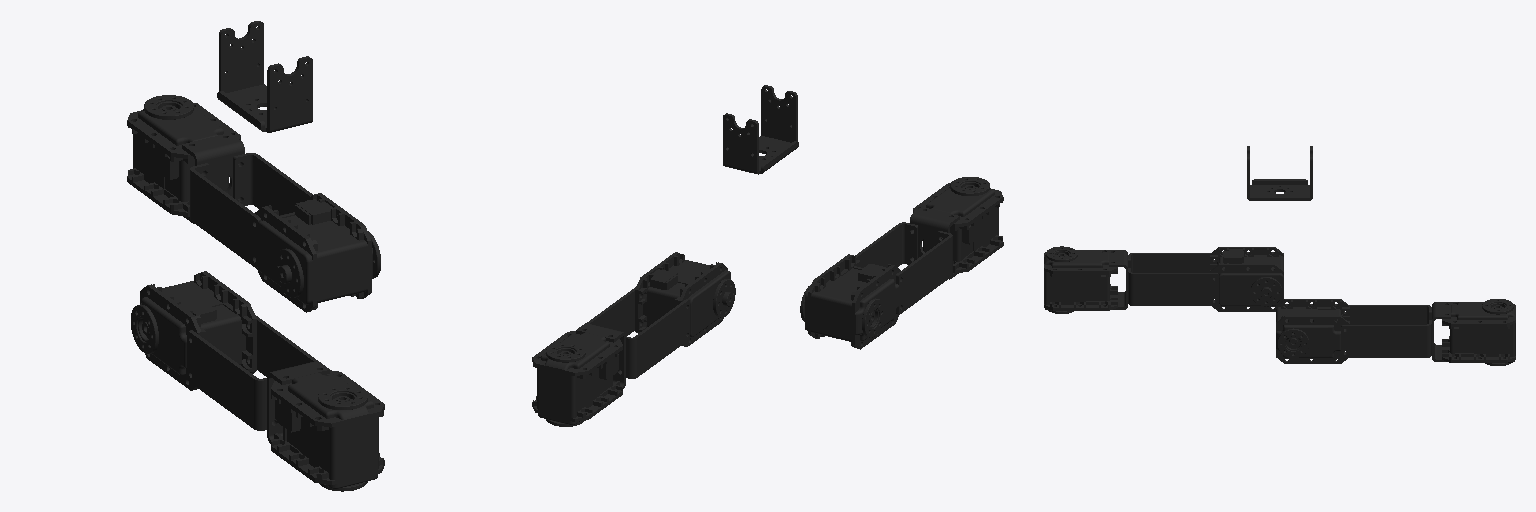
--- Render facts (derived) ---
3 views of the same robot in one strip: view 1: azimuth 30°, elevation 25°; view 2: azimuth 150°, elevation 25°; view 3: azimuth 270°, elevation 25° (orthographic).
Model Minibot with 26 links and 25 joints (20 revolute, 5 fixed), rooted at base_link, posed all joints at 0.
Visible links, largest first — view 1: MP_ARM_HIGH_R, MP_ARM_HIGH_L, MP_NECK; view 2: MP_ARM_HIGH_L, MP_ARM_HIGH_R, MP_NECK; view 3: MP_ARM_HIGH_L, MP_ARM_HIGH_R, MP_NECK.
Link boxes in pixels (x1,y1,x2,y2): MP_ARM_HIGH_R: [131, 271, 384, 491]; MP_ARM_HIGH_L: [127, 95, 380, 312]; MP_NECK: [217, 21, 312, 132]; MP_ARM_HIGH_L: [532, 252, 735, 426]; MP_ARM_HIGH_R: [800, 177, 1003, 349]; MP_NECK: [723, 85, 798, 174]; MP_ARM_HIGH_L: [1276, 299, 1515, 365]; MP_ARM_HIGH_R: [1044, 246, 1283, 313]; MP_NECK: [1247, 146, 1312, 200].
Size in the robot's own frame: 126 by 324 by 144 metres.
12 mesh visuals loaded from 12 distinct referenced files (7 binary STL); not drawn: 9 (reference not matched to a file when rendering).

The robot description file, URDF, robot "Minibot":
<?xml version="1.0" ?>
<robot name="Minibot">


<link name="base_link"/>
  
  <joint name="base_link_to_body" type="fixed">
    <parent link="base_link"/>
    <child link="MP_BODY"/>
    <origin xyz="0 0 0.6" rpy="0 0 0" />
  </joint>


  <link name="MP_BODY">
    <inertial>
      <origin xyz="-0.003053 -0.038651 -0.019268" />
      <mass value="0.97559947"/>
      <inertia ixx="3.1081800"  ixy="-0.25460189"  ixz="2.0318174" iyy="6.3787776" iyz="0.16417863" izz="5.3316425" />
    </inertial>
    <visual>
      <origin xyz="0 0 0" rpy="1.5707963268 0 1.5707963268"/>
      <geometry>
        <mesh filename="package://minibot_description/meshes/torso_high.stl"  scale="1 1 1"/>
      </geometry>
      <material name="Grey">
        <color rgba="0.20 0.20 0.20 1.0"/>
      </material>
    </visual>
    <collision>
      <origin xyz="0 0 0" rpy="1.5707963268 0 1.5707963268"/>
      <geometry>
        <mesh filename="package://minibot_description/meshes/torso_low.stl"  scale="1 1 1"/>
      </geometry>
    </collision>
  </link>

  <link name="MP_NECK">
    <inertial>
      <origin xyz="0.001424 -0.016567 -0.007128" />
      <mass value="0.024357719"/>
     <inertia ixx="0.0051411124"  ixy="-0.00057530255"  ixz="-0.000024729049" iyy="0.0081915737" iyz="-0.000019223094" izz="0.0011379812" />
    </inertial>
    <visual>
      <origin xyz="0 0 0" rpy="1.5707963268 0 0" />
      <geometry>
        <mesh filename="package://minibot_description/meshes/head_lower_high.stl"  scale="1 1 1"/>
      </geometry>
      <material name="Grey">
        <color rgba="0.20 0.20 0.20 1.0"/>
      </material>
    </visual>
    <collision>
      <origin xyz="0 0 0" rpy="1.5707963268 0 0" />
      <geometry>
        <mesh filename="package://minibot_description/meshes/head_lower_low.stl"  scale="1 1 1"/>
      </geometry>
    </collision>
  </link>

  <link name="MP_HEAD">
    <inertial>
      <origin xyz="0.000064 -0.018565 -0.007667" />
      <mass value="0.15804192"/>
     <inertia ixx="0.1239683"  ixy="0.000078494368"  ixz="0.000007645979" iyy="0.11783781" iyz="0.0012199205" izz="0.1583601" />
    </inertial>
    <visual>
      <origin xyz="0 0 0" rpy="3.14 1.5707963268 0" />
      <geometry>
        <mesh filename="package://minibot_description/meshes/head_upper_high.stl"  scale="1 1 1"/>
      </geometry>
      <material name="Grey">
        <color rgba="0.20 0.20 0.20 1.0"/>
      </material>
    </visual>
    <collision>
      <origin xyz="0 0 0" rpy="3.14 1.5707963268 0" />
      <geometry>
        <mesh filename="package://minibot_description/meshes/head_upper_low.stl"  scale="1 1 1"/>
      </geometry>
    </collision>
  </link>

  <link name="MP_BACK_L">
    <inertial>
      <origin xyz="-0.0031158909 0.020443695 -0.019663084" />
      <mass value="0.010"/>
      <inertia ixx="3.1081800"  ixy="-0.25460189"  ixz="2.0318174" iyy="6.3787776" iyz="0.16417863" izz="5.3316425" />
    </inertial>
    <visual>
      <origin xyz="0.0 0.0 0.0" rpy="0 0 0" />
      <geometry>
        <box size="0.001 0.001 0.001"  scale="1 1 1"/>
      </geometry>
      <material name="Grey">
        <color rgba="0.20 0.20 0.20 1.0"/>
      </material>
    </visual>
    <collision>
      <origin xyz="0.0 0.0 0.0" rpy="0 0 0" />
      <geometry>
        <box size="0.001 0.001 0.001"  scale="1 1 1"/>
      </geometry>
    </collision>

  </link>

  <link name="MP_SHOULDER_L">
    <inertial>
      <origin xyz="-0.013522619 0.010264050 0.0013935747" />
      <mass value="0.025913024"/>
      <inertia ixx="0.0097758165"  ixy="0.0016911839"  ixz="-0.00045174329" iyx="0.0016911839" iyy="0.010511104" iyz="0.00033406955" izx="-0.00045174329" izy="0.00033406955" izz="0.005476798" />
    </inertial>
    
    <visual>
      <origin xyz="0 0 0" rpy="0 1.5707963268 1.5707963268"/>
      <geometry>
        <!--box size="0.016 0.033 0.02165" /-->
        <mesh filename="package://minibot_description/meshes/shoulder_con_high.stl"  scale="1 1 1"/>
      </geometry>
      <material name="Grey">
        <color rgba="0.20 0.20 0.20 1.0"/>
      </material>
    </visual>
    <collision>
      <origin xyz="0 0 0" rpy="0 1.5707963268 1.5707963268"/>
      <geometry>
        <mesh filename="package://minibot_description/meshes/shoulder_con_low.stl"  scale="1 1 1"/>
      </geometry>
    </collision>
  </link>

  <link name="MP_ARM_HIGH_L" >
    <inertial>
      <origin xyz="-0.036239 0.000734 0.000660"/>
      <mass value="0.16837715"/>
      <inertia ixx="0.12202839"  ixy="-0.0020812626"  ixz="-0.00088143449" iyx="-0.0020812626" iyy="0.038088441" iyz="0.0018251448" izx="-0.00088143449" izy="0.0018251448" izz="0.11340830" />
    </inertial>
    <visual>
      <origin xyz="0 0 0" rpy="0 0 -1.5707963268" />
      <geometry>
        <!--box size="0.06 0.032 0.035" /-->
        <mesh filename="package://minibot_description/meshes/upper_arm_high.stl"  scale="1 1 1"/>
      </geometry>
      <material name="Grey">
        <color rgba="0.20 0.20 0.20 1.0"/>
      </material>
    </visual>
    <collision>
      <origin xyz="0 0 0" rpy="0 0 -1.5707963268" />
      <geometry>
        <mesh filename="package://minibot_description/meshes/upper_arm_high.stl"  scale="1 1 1"/>
      </geometry>
    </collision>
  </link>

  <link name="MP_ARM_LOW_L" >
    <inertial>
      <origin xyz="0.000000 0.000000 0.000000"/>
      <mass value="0.059288504"/>
      <inertia ixx="0.086855267"  ixy="0.0053020311"  ixz="0.00043636051" iyx="0.0053020311" iyy="0.021192085" iyz="-0.0064855932" izx="0.00043636051" izy="-0.0064855932" izz="0.086845450" />
    </inertial>

    <visual>
      <origin xyz="0 0 0" rpy="0 1.5707963268 1.5707963268" />
      <geometry>
        <mesh filename="package://minibot_description/meshes/lower_arm_high.stl"  scale="1 1 1"/>
      </geometry>
      <material name="Grey">
        <color rgba="0.20 0.20 0.20 1.0"/>
      </material>
    </visual>
    <collision>
      <origin xyz="0 0 0" rpy="0 1.5707963268 1.5707963268" />
      <geometry>
        <mesh filename="package://minibot_description/meshes/lower_arm_low.stl"  scale="1 1 1"/>
      </geometry>
    </collision>
  </link>


  <link name="MP_BACK_R">
    <inertial>
      <origin xyz="0 0 0" />
      <mass value="0.010"/>
      <inertia ixx="3.1081800"  ixy="-0.25460189"  ixz="2.0318174" iyy="6.3787776" iyz="0.16417863" izz="5.3316425" />
    </inertial>
    
    <visual>
      <origin xyz="0.0 0.0 0.0" rpy="0 0 0" />
      <geometry>
        <box size="0.001 0.001 0.001" />
      </geometry>
      <material name="Grey">
        <color rgba="0.20 0.20 0.20 1.0"/>
      </material>
    </visual>
    <collision>
      <origin xyz="0.0 0.0 0.0" rpy="0 0 0" />
      <geometry>
        <box size="0.001 0.001 0.001" />
      </geometry>
    </collision>
    
  </link>

  <link name="MP_SHOULDER_R" >
    <inertial>
      <origin xyz="-0.013523 0.010264 0.001394" />
      <mass value="0.025913024"/>
      <inertia ixx="0.0097758165"  ixy="0.0016911839"  ixz="-0.00045174329" iyx="0.0016911839" iyy="0.010511104" iyz="0.00033406955" izx="-0.00045174329" izy="0.00033406955" izz="0.005476798" />
    </inertial>
    <visual>
      <origin xyz="0 0 0" rpy="0 1.5707963268 1.5707963268"/>
      <geometry>
        <!--box size="0.016 0.033 0.02165" /-->
        <mesh filename="package://minibot_description/meshes/shoulder_con_high.stl"  scale="1 1 1"/>
      </geometry>
      <material name="Grey">
        <color rgba="0.20 0.20 0.20 1.0"/>
      </material>
    </visual>
    <collision>
      <origin xyz="0 0 0" rpy="0 1.5707963268 1.5707963268"/>
      <geometry>
        <mesh filename="package://minibot_description/meshes/shoulder_con_low.stl"  scale="1 1 1"/>
      </geometry>
    </collision>
  </link>

  <link name="MP_ARM_HIGH_R" >
    <inertial>
      <origin xyz="-0.036239 0.000734 -0.000660" />
      <mass value="0.16837715"/>
      <inertia ixx="0.12202839"  ixy="-0.0020812626"  ixz="-0.00088143449" iyx="-0.0020812626" iyy="0.038088441" iyz="0.0018251448" izx="-0.00088143449" izy="0.0018251448" izz="0.11340830" />
    </inertial>
    <visual>
      <origin xyz="0 0 0" rpy="0 0 -1.5707963268" />
      <geometry>
        <!--box size="0.06 0.032 0.035"/-->
        <mesh filename="package://minibot_description/meshes/upper_arm_high.stl"  scale="1 1 1"/>
      </geometry>
      <material name="Grey">
        <color rgba="0.20 0.20 0.20 1.0"/>
      </material>
    </visual>
    <collision>
      <origin xyz="0 0 0" rpy="0 0 -1.5707963268" />
      <geometry>
        <mesh filename="package://minibot_description/meshes/upper_arm_high.stl"  scale="1 1 1"/>
      </geometry>
    </collision>
  </link>

  <link name="MP_ARM_LOW_R" >
    <inertial>
      <origin xyz="0.000000 0.000000 0.000000" />
      <mass value="0.059288504"/>
      <inertia ixx="0.086855267"  ixy="0.0053020311"  ixz="0.00043636051" iyx="0.0053020311" iyy="0.021192085" iyz="-0.0064855932" izx="0.00043636051" izy="-0.0064855932" izz="0.086845450" />
    </inertial>

    <visual>
      <origin xyz="0 0 0" rpy="0 1.5707963268 1.5707963268" />
      <geometry>
        <mesh filename="package://minibot_description/meshes/lower_arm_high.stl"  scale="1 1 1"/>
      </geometry>
      <material name="Grey">
        <color rgba="0.20 0.20 0.20 1.0"/>
      </material>
    </visual>
    <collision>
      <origin xyz="0 0 0" rpy="0 1.5707963268 1.5707963268" />
      <geometry>
        <mesh filename="package://minibot_description/meshes/lower_arm_low.stl"  scale="1 1 1"/>
      </geometry>
    </collision>
  </link>


  <link name="MP_PELVIS_L" >
    <inertial>
      <origin xyz="0.000000 0.000480 0.018437" />
      <mass value="0.167"/>
      <inertia ixx="0.12259691"  ixy="0.00071127469"  ixz="0.00081143913" iyx="0.00071127469" iyy="0.11066637" iyz="-0.0071635476" izx="0.00081143913" izy="-0.0071635476" izz="0.041877668" />
    </inertial>
    <visual>
      <origin xyz="0 0 0" rpy="1.5707963268 0 1.5707963268" />
      <geometry>
        <!--box size="0.045 0.08175 0.028652" /-->
        <mesh filename="package://minibot_description/meshes/yaw_con_high.stl"  scale="1 1 1"/>
      </geometry>
      <material name="Grey">
        <color rgba="0.20 0.20 0.20 1.0"/>
      </material>
    </visual>
    <collision>
      <origin xyz="0 0 0" rpy="1.5707963268 0 1.5707963268" />
      <geometry>
        <mesh filename="package://minibot_description/meshes/yaw_con_low.stl"  scale="1 1 1"/>
      </geometry>
    </collision>
  </link>

  <link name="MP_THIGH1_L" >
    <inertial>
      <origin xyz="0.000079 0.018242 0.013873" />
      <mass value="0.11904336"/>
      <inertia ixx="0.097950272"  ixy="0.0012119368"  ixz="-0.00021223016" iyx="0.00122119368" iyy="0.032848287" iyz="-0.0019474021" izx="-0.00021223016" izy="-0.0019474021" izz="0.11493509" />
    </inertial>
    <visual>
      <origin xyz="0 0 0" rpy="0 3.14 3.14" />
      <geometry>
        <!--box size="0.001 0.001 0.001"/-->
        <mesh filename="package://minibot_description/meshes/hip_roll_high.stl"  scale="1 1 1"/>
      </geometry>
      <material name="Grey">
        <color rgba="0.20 0.20 0.20 1.0"/>
      </material>
    </visual>
    <collision>
      <origin xyz="0 0 0" rpy="0 3.14 3.14" />
      <geometry>
        <mesh filename="package://minibot_description/meshes/hip_roll_low.stl"  scale="1 1 1"/>
      </geometry>
    </collision>
  </link>

  <link name="MP_THIGH2_L" >
    <inertial>
      <origin xyz="-0.062965 -0.000323 0.000692" />
      <mass value="0.11904336"/>
      <inertia ixx="0.097950272"  ixy="0.0012119368"  ixz="-0.00021223016" iyx="0.00122119368" iyy="0.032848287" iyz="-0.0019474021" izx="-0.00021223016" izy="-0.0019474021" izz="0.11493509" />
    </inertial>
    <visual>
      <origin xyz="0 0 0" rpy="1.5707963268 1.5707963268 0" />
      <geometry>
        <!--box size="0.093 0.035 0.045"-->
        <mesh filename="package://minibot_description/meshes/upper_leg_high.stl"  scale="1 1 1"/>
      </geometry>
      <material name="Grey">
        <color rgba="0.20 0.20 0.20 1.0"/>
      </material>
    </visual>
    <collision>
      <origin xyz="0 0 0" rpy="1.5707963268 1.5707963268 0" />
      <geometry>
        <mesh filename="package://minibot_description/meshes/upper_leg_high.stl"  scale="1 1 1"/>
      </geometry>
    </collision>
  </link>

  <link name="MP_TIBIA_L" >
    <inertial>
      <origin xyz="-0.053955 0.006548 -0.000592" />
      <mass value="0.070309794"/>
      <inertia ixx="0.093369608"  ixy="-0.00093567395"  ixz="-0.00023992085" iyx="-0.00093567395" iyy="0.046295534" iyz="-0.012858493" izx="-0.00023992085" izy="-0.012858493" izz="0.11351516" />
    </inertial>
    <visual>
      <origin xyz="0 0 0" rpy="1.5707963268 1.5707963268 0" />
      <geometry>
        <!--box size="0.093 0.035 0.045"/-->
        <mesh filename="package://minibot_description/meshes/lower_leg_high.stl"  scale="1 1 1"/>
      </geometry>
      <material name="Grey">
        <color rgba="0.20 0.20 0.20 1.0"/>
      </material>
    </visual>
    <collision>
      <origin xyz="0 0 0" rpy="1.5707963268 1.5707963268 0" />
      <geometry>
        <mesh filename="package://minibot_description/meshes/lower_leg_low.stl"  scale="1 1 1"/>
      </geometry>
    </collision>
  </link>

  <link name="MP_ANKLE1_L" >
    <inertial>
      <origin xyz="-0.000214 -0.018536 0.013873" />
      <mass value="0.16710792"/>
      <inertia ixx="0.12079175"  ixy="-0.00079781067"  ixz="-0.00039322246" iyx="-0.00079781067" iyy="0.10885465" iyz="0.0070770117" izx="-0.00039322246" izy="0.0070770117" izz="0.041871103" />
    </inertial>
    <visual>
      <origin xyz="0 0 0" rpy="3.14 -1.5707963268 1.5707963268" />
      <geometry>
        <!--box size="0.028652 0.08175 0.045"/-->
        <mesh filename="package://minibot_description/meshes/ankle_roll_high.stl"  scale="1 1 1"/>
      </geometry>
      <material name="Grey">
        <color rgba="0.20 0.20 0.20 1.0"/>
      </material>
    </visual>
    <collision>
      <origin xyz="0 0 0" rpy="3.14 -1.5707963268 1.5707963268" />
      <geometry>
        <mesh filename="package://minibot_description/meshes/ankle_roll_low.stl"  scale="1 1 1"/>
      </geometry>
    </collision>
  </link>

  <link name="MP_ANKLE2_L" >
    <inertial>
      <origin xyz="-0.025995 -0.009506 -0.000503" />
      <mass value="0.0794462"/>
      <inertia ixx="0.12079175"  ixy="-0.00079781067"  ixz="-0.00039322246" iyx="-0.00079781067" iyy="0.10885465" iyz="0.0070770117" izx="-0.00039322246" izy="0.0070770117" izz="0.041871103" />
    </inertial>
    <visual>
      <origin xyz="0 0 0" rpy="0 0 -1.5707963268" />
      <geometry>
        <!--box size="0.008 0.066 0.104"/-->
        <mesh filename="package://minibot_description/meshes/foot_high.stl"  scale="1 1 1"/>
      </geometry>
      <material name="Grey">
        <color rgba="0.20 0.20 0.20 1.0"/>
      </material>
    </visual>
    <collision>
      <origin xyz="0 0 0" rpy="0 0 -1.5707963268" />
      <geometry>
        <mesh filename="package://minibot_description/meshes/foot_low.stl"  scale="1 1 1"/>
      </geometry>
    </collision>
  </link>

  <link name="MP_PELVIS_R" >
    <inertial>
      <origin xyz="0.000000 0.000480 0.018437" />
      <mass value="0.197"/>
      <inertia ixx="0.12259691"  ixy="0.00071127469"  ixz="0.00081143913" iyx="0.00071127469" iyy="0.11066637" iyz="-0.0071635476" izx="0.00081143913" izy="-0.0071635476" izz="0.041877668" />
    </inertial>
    <visual>
      <origin xyz="0 0 0" rpy="1.5707963268 0 1.5707963268" />
      <geometry>
        <!--box size="0.045 0.08175 0.028652" /-->
        <mesh filename="package://minibot_description/meshes/yaw_con_high.stl"  scale="1 1 1"/>
      </geometry>
      <material name="Grey">
        <color rgba="0.20 0.20 0.20 1.0"/>
      </material>
    </visual>
    <collision>
      <origin xyz="0 0 0" rpy="1.5707963268 0 1.5707963268" />
      <geometry>
        <mesh filename="package://minibot_description/meshes/yaw_con_low.stl"  scale="1 1 1"/>
      </geometry>
    </collision>
  </link>

  <link name="MP_THIGH1_R" >
    <inertial>
      <origin xyz="0.000079 -0.018242 0.0138735" />
      <mass value="0.11904336"/>
      <inertia ixx="0.097950272"  ixy="0.0012119368"  ixz="-0.00021223016" iyx="0.00122119368" iyy="0.032848287" iyz="-0.0019474021" izx="-0.00021223016" izy="-0.0019474021" izz="0.11493509" />
    </inertial>
    <visual>
      <origin xyz="0 0 0" rpy="0 3.14 0" />
      <geometry>
        <!--box size="0.001 0.001 0.001"/-->
        <mesh filename="package://minibot_description/meshes/hip_roll_high.stl"  scale="1 1 1"/>
      </geometry>
      <material name="Grey">
        <color rgba="0.20 0.20 0.20 1.0"/>
      </material>
    </visual>
    <collision>
      <origin xyz="0 0 0" rpy="0 3.14 0" />
      <geometry>
        <mesh filename="package://minibot_description/meshes/hip_roll_low.stl"  scale="1 1 1"/>
      </geometry>
    </collision>

  </link>

  <link name="MP_THIGH2_R" >
    <inertial>
      <origin xyz="0.062965 -0.000323 0.000692" />
      <mass value="0.11904336"/>
      <inertia ixx="0.097950272"  ixy="0.0012119368"  ixz="-0.00021223016" iyx="0.00122119368" iyy="0.032848287" iyz="-0.0019474021" izx="-0.00021223016" izy="-0.0019474021" izz="0.11493509" />
    </inertial>
    <visual>
      <origin xyz="0 0 0" rpy="1.5707963268 -1.5707963268 0" />
      <geometry>
        <!--box size="0.093 0.035 0.045"/-->
        <mesh filename="package://minibot_description/meshes/upper_leg_high.stl"  scale="1 1 1"/>
      </geometry>
      <material name="Grey">
        <color rgba="0.20 0.20 0.20 1.0"/>
      </material>
    </visual>
    <collision>
      <origin xyz="0 0 0" rpy="1.5707963268 -1.5707963268 0" />
      <geometry>
        <mesh filename="package://minibot_description/meshes/upper_leg_high.stl"  scale="1 1 1"/>
      </geometry>
    </collision>

  </link>

  <link name="MP_TIBIA_R" >
    <inertial>
      <origin xyz="0.053955 0.006548 -0.000592" />
      <mass value="0.070309794"/>
      <inertia ixx="0.093369608"  ixy="-0.00093567395"  ixz="-0.00023992085" iyx="-0.00093567395" iyy="0.046295534" iyz="-0.012858493" izx="-0.00023992085" izy="-0.012858493" izz="0.11351516" />
    </inertial>
    <visual>
      <origin xyz="0 0 0" rpy="1.5707963268 -1.5707963268 0" />
      <geometry>
        <!--box size="0.093 0.035 0.045"/-->
        <mesh filename="package://minibot_description/meshes/lower_leg_high.stl"  scale="1 1 1"/>
      </geometry>
      <material name="Grey">
        <color rgba="0.20 0.20 0.20 1.0"/>
      </material>
    </visual>
    <collision>
      <origin xyz="0 0 0" rpy="1.5707963268 -1.5707963268 0" />
      <geometry>
        <mesh filename="package://minibot_description/meshes/lower_leg_low.stl"  scale="1 1 1"/>
      </geometry>
    </collision>

  </link>

  <link name="MP_ANKLE1_R" >
    <inertial>
      <origin xyz="-0.000214 -0.018536 -0.013873" />
      <mass value="0.16710792"/>
      <inertia ixx="0.12079175"  ixy="-0.00079781067"  ixz="-0.00039322246" iyx="-0.00079781067" iyy="0.10885465" iyz="0.0070770117" izx="-0.00039322246" izy="0.0070770117" izz="0.041871103" />
    </inertial>
    <visual>
      <origin xyz="0 0 0" rpy="0 1.5707963268 1.5707963268" />
      <geometry>
        <!--box size="0.028652 0.08175 0.045"/-->
        <mesh filename="package://minibot_description/meshes/ankle_roll_high.stl"  scale="1 1 1"/>
      </geometry>
      <material name="Grey">
        <color rgba="0.20 0.20 0.20 1.0"/>
      </material>
    </visual>
    <collision>
      <origin xyz="0 0 0" rpy="0 1.5707963268 1.5707963268" />
      <geometry>
        <mesh filename="package://minibot_description/meshes/ankle_roll_low.stl"  scale="1 1 1"/>
      </geometry>
    </collision>

  </link>

  <link name="MP_ANKLE2_R" >
    <inertial>
      <origin xyz="0.025995 -0.009506 -0.000503" />
      <mass value="0.0794462"/>
      <inertia ixx="0.12079175"  ixy="-0.00079781067"  ixz="-0.00039322246" iyx="-0.00079781067" iyy="0.10885465" iyz="0.0070770117" izx="-0.00039322246" izy="0.0070770117" izz="0.041871103" />
    </inertial>
    <visual>
      <origin xyz="0 0 0" rpy="0 0 1.5707963268" />
      <geometry>
        <!--box size="0.008 0.066 0.104"/-->
        <mesh filename="package://minibot_description/meshes/foot_high.stl"  scale="1 1 1"/>
      </geometry>
      <material name="Grey">
        <color rgba="0.20 0.20 0.20 1.0"/>
      </material>
    </visual>
    <collision>
      <origin xyz="0 0 0" rpy="0 0 1.5707963268" />
      <geometry>
        <mesh filename="package://minibot_description/meshes/foot_low.stl"  scale="1 1 1"/>
      </geometry>
    </collision>

  </link>
  
  <link name="MP_PMDCAMBOARD" >
    <!--
    <visual>
      <origin xyz="0 0 0" rpy="0 0 0" />
      <geometry>
        <box size="0.032 0.005 0.032" />
      </geometry>
      <material name="Grey">
        <color rgba="0.20 0.20 0.20 1.0"/>
      </material>
    </visual>
    -->
  </link>


  <link name="MP_IMU">
  </link>

  <joint name="j_imu" type="fixed">
  <parent link="MP_BODY"/>
  <child link="MP_IMU"/>
  <origin xyz="-0.03 0 -0.05" rpy="0 0 0" />
  <axis xyz="0 0 1" />
  </joint>


  <joint name="j_camboard" type="fixed">
  <parent link="MP_HEAD"/>
  <child link="MP_PMDCAMBOARD"/>
  <origin xyz="0 -0.055 0 " rpy="3.14159 3.14159 0" />
  <axis xyz="0 0 1" />
  </joint>

  <joint name="HeadTilt" type="revolute">
    <parent link="MP_NECK"/>
    <child link="MP_HEAD"/>
    <origin xyz="0 0 0.02715" rpy="-1.5707963 0 1.5707963" />
    <axis xyz="0 0 1" />
    <limit effort="2.8" velocity="5.6548668" lower="-2.6179939" upper="2.6179939" />
  </joint>

  <joint name="HeadPan" type="revolute">
    <parent link="MP_BODY"/>
    <child link="MP_NECK"/>
    <origin xyz="0 0 0.050593" rpy="0 0 1.5707963" />
    <axis xyz="0 0 1" />
    <limit effort="2.8" velocity="5.6548668" lower="-2.6179939" upper="2.6179939" />
  </joint>

  <joint name="j_back_l" type="fixed"> <!-- body -> shoulder pitch -->
    <parent link="MP_BODY"/>
    <child link="MP_BACK_L"/>
    <origin xyz="0 0.08134 0" rpy="-1.5707963 0 0" />
  </joint>

  <joint name="LShoulderPitch" type="revolute">
    <parent link="MP_BACK_L"/>
    <child link="MP_SHOULDER_L"/>
    <origin xyz="0 0 0" rpy="0 0 -1.5707963" />
    <axis xyz="0 0 1" />
    <limit effort="2.8" velocity="5.6548668" lower="-2.6179939" upper="2.6179939" />
  </joint>

  <joint name="LShoulderRoll" type="revolute">
    <parent link="MP_SHOULDER_L"/>
    <child link="MP_ARM_HIGH_L"/>
    <origin xyz="0 0 0.029194" rpy="1.5707963 1.5707963 0" />
    <axis xyz="0 0 1" />
    <limit effort="2.8" velocity="5.648668" lower="-2.6179939" upper="2.6179939" />
  </joint>

  <joint name="LElbow" type="revolute">
    <parent link="MP_ARM_HIGH_L"/>
    <child link="MP_ARM_LOW_L"/>
    <origin xyz="-0.14 0 0" rpy="-1.5707963 3.14159 0" />
    <axis xyz="0 0 1" />
    <limit effort="2.8" velocity="5.6548668" lower="-2.6179939" upper="2.6179939" />
  </joint>


  <joint name="j_back_r" type="fixed">
    <parent link="MP_BODY"/>
    <child link="MP_BACK_R"/>
    <origin xyz="0 -0.08134 0" rpy="1.5707963 0 0" />
  </joint>

  <joint name="RShoulderPitch" type="revolute">
    <parent link="MP_BACK_R"/>
    <child link="MP_SHOULDER_R"/>
    <origin xyz="0 0 0" rpy="0 0 -1.5707963" />
    <axis xyz="0 0 1" />
    <limit effort="2.8" velocity="5.6548668" lower="-2.6179939" upper="2.6179939" />
  </joint>

  <joint name="RShoulderRoll" type="revolute">
    <parent link="MP_SHOULDER_R"/>
    <child link="MP_ARM_HIGH_R"/>
    <origin xyz="0 0 0.029194" rpy="-1.5707963 1.5707963 0" />
    <axis xyz="0 0 1" />
    <limit effort="2.8" velocity="5.648668" lower="-2.6179939" upper="2.6179939" />
  </joint>

  <joint name="RElbow" type="revolute">
    <parent link="MP_ARM_HIGH_R"/>
    <child link="MP_ARM_LOW_R"/>
    <origin xyz="-0.14 0 0" rpy="-1.5707963 3.14159 0" />
    <axis xyz="0 0 1" />
    <limit effort="2.8" velocity="5.6548668" lower="-1.635" upper="2.6179939" />
  </joint>


  <joint name="LHipYaw" type="revolute">
    <parent link="MP_BODY"/>
    <child link="MP_PELVIS_L"/>
    <origin xyz="-0.022 0.057775 -0.160593" rpy="0 3.14159 -1.5707963" />
    <axis xyz="0 0 1" />
    <limit effort="10" velocity="5.6548668" lower="-2.6179939" upper="2.6179939" />
  </joint>

  <joint name="LHipRoll" type="revolute">
    <parent link="MP_PELVIS_L"/>
    <child link="MP_THIGH1_L"/>
    <origin xyz="0 0 0.038444" rpy="1.5707963 0 0" />
    <axis xyz="0 0 1" />
    <limit effort="10" velocity="5.6548668" lower="-2.6179939" upper="2.6179939" />
  </joint>

  <joint name="LHipPitch" type="revolute">
    <parent link="MP_THIGH1_L"/>
    <child link="MP_THIGH2_L"/>
    <origin xyz="0 0 0" rpy="1.5707963 0 -1.5707963" />
    <axis xyz="0 0 1" />
    <limit effort="10" velocity="5.6548668" lower="-2.6179939" upper="2.6179939" />
  </joint>

  <joint name="LKnee" type="revolute">
    <parent link="MP_THIGH2_L"/>
    <child link="MP_TIBIA_L"/>
    <origin xyz="-0.150 0 0" rpy="0 0 0" />
    <axis xyz="0 0 1" />
    <limit effort="10" velocity="5.6548668" lower="-2.6179939" upper="2.6179939" />
  </joint>

  <joint name="LAnklePitch" type="revolute">
    <parent link="MP_TIBIA_L"/>
    <child link="MP_ANKLE1_L"/>
    <origin xyz="-0.150 0 0" rpy="3.14159 0 0" />
    <axis xyz="0 0 1" />
    <limit effort="10" velocity="5.6548668" lower="-2.6179939" upper="2.6179939" />
  </joint>

  <joint name="LAnkleRoll" type="revolute">
    <parent link="MP_ANKLE1_L"/>
    <child link="MP_ANKLE2_L"/>
    <origin xyz="0 0 0" rpy="-1.5707963 0 0" />
    <axis xyz="0 0 1" />
    <limit effort="10" velocity="5.6548668" lower="-2.6179939" upper="2.6179939" />
  </joint>

  <joint name="RHipYaw" type="revolute">
    <parent link="MP_BODY"/>
    <child link="MP_PELVIS_R"/>
    <origin xyz="-0.022 -0.057775 -0.160593" rpy="0 3.14159 1.5707963" />
    <axis xyz="0 0 1" />
    <limit effort="10" velocity="5.6548668" lower="-2.6179939" upper="2.6179939" />
  </joint>

  <joint name="RHipRoll" type="revolute">
    <parent link="MP_PELVIS_R"/>
    <child link="MP_THIGH1_R"/>
    <origin xyz="0 0 0.038444" rpy="-1.5707963 0 0" />
    <axis xyz="0 0 1" />
    <limit effort="10" velocity="5.6548668" lower="-2.6179939" upper="2.6179939" />
  </joint>

  <joint name="RHipPitch" type="revolute">
    <parent link="MP_THIGH1_R"/>
    <child link="MP_THIGH2_R"/>
    <origin xyz="0 0 0" rpy="1.5707963 0 -1.5707963" />
    <axis xyz="0 0 1" />
    <limit effort="10" velocity="5.6548668" lower="-2.6179939" upper="2.6179939" />
  </joint>

  <joint name="RKnee" type="revolute">
    <parent link="MP_THIGH2_R"/>
    <child link="MP_TIBIA_R"/>
    <origin xyz="0.150 0 0" rpy="0 0 0" />
    <axis xyz="0 0 1" />
    <limit effort="10" velocity="5.6548668" lower="-2.6179939" upper="2.6179939" />
  </joint>

  <joint name="RAnklePitch" type="revolute">
    <parent link="MP_TIBIA_R"/>
    <child link="MP_ANKLE1_R"/>
    <origin xyz="0.150 0 0" rpy="3.14159 0 0" />
    <axis xyz="0 0 1" />
    <limit effort="10" velocity="5.6548668" lower="-2.6179939" upper="2.6179939" />
  </joint>

  <joint name="RAnkleRoll" type="revolute">
    <parent link="MP_ANKLE1_R"/>
    <child link="MP_ANKLE2_R"/>
    <origin xyz="0 0 0" rpy="-1.5707963 0 0" />
    <axis xyz="0 0 1" />
    <limit effort="10" velocity="5.6548668" lower="-2.6179939" upper="2.6179939" />
  </joint>
  
  

   <transmission name="HeadPanTransmission">
    <type>transmission_interface/SimpleTransmission</type>
    <joint name="HeadPan">
        <hardwareInterface>EffortJointInterface</hardwareInterface>
    </joint>
    <actuator name="HeadPanMotor">
      <hardwareInterface>EffortJointInterface</hardwareInterface>
      <mechanicalReduction>1</mechanicalReduction>
    </actuator>
  </transmission>
  
  
   <transmission name="HeadTiltTransmission">
    <type>transmission_interface/SimpleTransmission</type>
    <joint name="HeadTilt">
        <hardwareInterface>EffortJointInterface</hardwareInterface>
    </joint>
    <actuator name="HeadTiltMotor">
      <hardwareInterface>EffortJointInterface</hardwareInterface>
      <mechanicalReduction>1</mechanicalReduction>
    </actuator>
  </transmission>
  
  
   <transmission name="LShoulderPitchTransmission">
    <type>transmission_interface/SimpleTransmission</type>
    <joint name="LShoulderPitch">
        <hardwareInterface>EffortJointInterface</hardwareInterface>
    </joint>
    <actuator name="LShoulderPitchMotor">
      <hardwareInterface>EffortJointInterface</hardwareInterface>
      <mechanicalReduction>1</mechanicalReduction>
    </actuator>
  </transmission>
  
  
   <transmission name="LShoulderRollTransmission">
    <type>transmission_interface/SimpleTransmission</type>
    <joint name="LShoulderRoll">
        <hardwareInterface>EffortJointInterface</hardwareInterface>
    </joint>
    <actuator name="LShoulderRollTransmission">
      <hardwareInterface>EffortJointInterface</hardwareInterface>
      <mechanicalReduction>1</mechanicalReduction>
    </actuator>
  </transmission>
  
  
   <transmission name="LElbowTransmission">
    <type>transmission_interface/SimpleTransmission</type>
    <joint name="LElbow">
        <hardwareInterface>EffortJointInterface</hardwareInterface>
    </joint>
    <actuator name="LElbowMotor">
      <hardwareInterface>EffortJointInterface</hardwareInterface>
      <mechanicalReduction>1</mechanicalReduction>
    </actuator>
  </transmission>
  
  
   <transmission name="RShoulderPitchTransmission">
    <type>transmission_interface/SimpleTransmission</type>
    <joint name="RShoulderPitch">
        <hardwareInterface>EffortJointInterface</hardwareInterface>
    </joint>
    <actuator name="RShoulderPitchMotor">
      <hardwareInterface>EffortJointInterface</hardwareInterface>
      <mechanicalReduction>1</mechanicalReduction>
    </actuator>
  </transmission>
  
  
   <transmission name="RShoulderRollTransmission">
    <type>transmission_interface/SimpleTransmission</type>
    <joint name="RShoulderRoll">
        <hardwareInterface>EffortJointInterface</hardwareInterface>
    </joint>
    <actuator name="RShoulderRollMotor">
      <hardwareInterface>EffortJointInterface</hardwareInterface>
      <mechanicalReduction>1</mechanicalReduction>
    </actuator>
  </transmission>
  
  
   <transmission name="RElbowTransmission">
    <type>transmission_interface/SimpleTransmission</type>
    <joint name="RElbow">
        <hardwareInterface>EffortJointInterface</hardwareInterface>
    </joint>
    <actuator name="RElbowMotor">
      <hardwareInterface>EffortJointInterface</hardwareInterface>
      <mechanicalReduction>1</mechanicalReduction>
    </actuator>
  </transmission>
  
  
  
   <transmission name="LHipYawTransmission">
    <type>transmission_interface/SimpleTransmission</type>
    <joint name="LHipYaw">
        <hardwareInterface>EffortJointInterface</hardwareInterface>
    </joint>
    <actuator name="LHipYawMotor">
      <hardwareInterface>EffortJointInterface</hardwareInterface>
      <mechanicalReduction>1</mechanicalReduction>
    </actuator>
  </transmission>
  
  
   <transmission name="LHipRollTransmission">
    <type>transmission_interface/SimpleTransmission</type>
    <joint name="LHipRoll">
        <hardwareInterface>EffortJointInterface</hardwareInterface>
    </joint>
    <actuator name="LHipRollMotor">
      <hardwareInterface>EffortJointInterface</hardwareInterface>
      <mechanicalReduction>1</mechanicalReduction>
    </actuator>
  </transmission>
  
  
   <transmission name="LHipPitchTransmission">
    <type>transmission_interface/SimpleTransmission</type>
    <joint name="LHipPitch">
        <hardwareInterface>EffortJointInterface</hardwareInterface>
    </joint>
    <actuator name="LHipPitchMotor">
      <hardwareInterface>EffortJointInterface</hardwareInterface>
      <mechanicalReduction>1</mechanicalReduction>
    </actuator>
  </transmission>
  
  
   <transmission name="LKneeTransmission">
    <type>transmission_interface/SimpleTransmission</type>
    <joint name="LKnee">
        <hardwareInterface>EffortJointInterface</hardwareInterface>
    </joint>
    <actuator name="LKneeMotor">
      <hardwareInterface>EffortJointInterface</hardwareInterface>
      <mechanicalReduction>1</mechanicalReduction>
    </actuator>
  </transmission>
  
  
   <transmission name="LAnklePitchTransmission">
    <type>transmission_interface/SimpleTransmission</type>
    <joint name="LAnklePitch">
        <hardwareInterface>EffortJointInterface</hardwareInterface>
    </joint>
    <actuator name="LAnklePitchMotor">
      <hardwareInterface>EffortJointInterface</hardwareInterface>
      <mechanicalReduction>1</mechanicalReduction>
    </actuator>
  </transmission>
  
  
   <transmission name="LAnkleRollTransmission">
    <type>transmission_interface/SimpleTransmission</type>
    <joint name="LAnkleRoll">
        <hardwareInterface>EffortJointInterface</hardwareInterface>
    </joint>
    <actuator name="LAnkleRollMotor">
      <hardwareInterface>EffortJointInterface</hardwareInterface>
      <mechanicalReduction>1</mechanicalReduction>
    </actuator>
  </transmission>
  
  
   <transmission name="RHipYawTransmission">
    <type>transmission_interface/SimpleTransmission</type>
    <joint name="RHipYaw">
        <hardwareInterface>EffortJointInterface</hardwareInterface>
    </joint>
    <actuator name="RHipYawMotor">
      <hardwareInterface>EffortJointInterface</hardwareInterface>
      <mechanicalReduction>1</mechanicalReduction>
    </actuator>
  </transmission>
  
  
   <transmission name="RHipRollTransmission">
    <type>transmission_interface/SimpleTransmission</type>
    <joint name="RHipRoll">
        <hardwareInterface>EffortJointInterface</hardwareInterface>
    </joint>
    <actuator name="RHipRollMotor">
      <hardwareInterface>EffortJointInterface</hardwareInterface>
      <mechanicalReduction>1</mechanicalReduction>
    </actuator>
  </transmission>
  
  
   <transmission name="RHipPitchTransmission">
    <type>transmission_interface/SimpleTransmission</type>
    <joint name="RHipPitch">
        <hardwareInterface>EffortJointInterface</hardwareInterface>
    </joint>
    <actuator name="RHipPitchMotor">
      <hardwareInterface>EffortJointInterface</hardwareInterface>
      <mechanicalReduction>1</mechanicalReduction>
    </actuator>
  </transmission>
  
  
   <transmission name="RKneeTransmission">
    <type>transmission_interface/SimpleTransmission</type>
    <joint name="RKnee">
        <hardwareInterface>EffortJointInterface</hardwareInterface>
    </joint>
    <actuator name="RKneeMotor">
      <hardwareInterface>EffortJointInterface</hardwareInterface>
      <mechanicalReduction>1</mechanicalReduction>
    </actuator>
  </transmission>
  
  
   <transmission name="RAnklePitchTransmission">
    <type>transmission_interface/SimpleTransmission</type>
    <joint name="RAnklePitch">
        <hardwareInterface>EffortJointInterface</hardwareInterface>
    </joint>
    <actuator name="RAnklePitchMotor">
      <hardwareInterface>EffortJointInterface</hardwareInterface>
      <mechanicalReduction>1</mechanicalReduction>
    </actuator>
  </transmission>
  
  
   <transmission name="RAnkleRollTransmission">
    <type>transmission_interface/SimpleTransmission</type>
    <joint name="RAnkleRoll">
        <hardwareInterface>EffortJointInterface</hardwareInterface>
    </joint>
    <actuator name="RAnkleRollMotor">
      <hardwareInterface>EffortJointInterface</hardwareInterface>
      <mechanicalReduction>1</mechanicalReduction>
    </actuator>
  </transmission>



<gazebo reference="MP_BODY">
    
    
    <material>Gazebo/Grey</material>

    <mu1>9000</mu1>
    <mu2>9000</mu2>
    <kp>1000000.0</kp>
    <kd>10.0</kd>
    <minDepth>0.001</minDepth>
    <maxContacts>1</maxContacts>
    
  </gazebo>



<gazebo reference="MP_NECK">
    
    
    <material>Gazebo/Grey</material>

    <mu1>9000</mu1>
    <mu2>9000</mu2>
    <kp>1000000.0</kp>
    <kd>10.0</kd>
    <minDepth>0.001</minDepth>
    <maxContacts>1</maxContacts>
    
  </gazebo>



<gazebo reference="MP_HEAD">
    
    
    <material>Gazebo/Grey</material>

    <mu1>9000</mu1>
    <mu2>9000</mu2>
    <kp>1000000.0</kp>
    <kd>10.0</kd>
    <minDepth>0.001</minDepth>
    <maxContacts>1</maxContacts>
    
  </gazebo>



<gazebo reference="MP_BACK_L">
    
    
    <material>Gazebo/Grey</material>

    <mu1>9000</mu1>
    <mu2>9000</mu2>
    <kp>1000000.0</kp>
    <kd>10.0</kd>
    <minDepth>0.001</minDepth>
    <maxContacts>1</maxContacts>
    
  </gazebo>



<gazebo reference="MP_SHOULDER_L">
    
    
    <material>Gazebo/Grey</material>

    <mu1>9000</mu1>
    <mu2>9000</mu2>
    <kp>1000000.0</kp>
    <kd>10.0</kd>
    <minDepth>0.001</minDepth>
    <maxContacts>1</maxContacts>
    
  </gazebo>



<gazebo reference="MP_ARM_HIGH_L">
    
    
    <material>Gazebo/Grey</material>

    <mu1>9000</mu1>
    <mu2>9000</mu2>
    <kp>1000000.0</kp>
    <kd>10.0</kd>
    <minDepth>0.001</minDepth>
    <maxContacts>1</maxContacts>
    
  </gazebo>



<gazebo reference="MP_ARM_LOW_L">
    
    
    <material>Gazebo/Grey</material>

    <mu1>9000</mu1>
    <mu2>9000</mu2>
    <kp>1000000.0</kp>
    <kd>10.0</kd>
    <minDepth>0.001</minDepth>
    <maxContacts>1</maxContacts>
    
  </gazebo>





<gazebo reference="MP_BACK_R">
    
    
    <material>Gazebo/Grey</material>

    <mu1>9000</mu1>
    <mu2>9000</mu2>
    <kp>1000000.0</kp>
    <kd>10.0</kd>
    <minDepth>0.001</minDepth>
    <maxContacts>1</maxContacts>
    
  </gazebo>



<gazebo reference="MP_SHOULDER_R">
    
    
    <material>Gazebo/Grey</material>

    <mu1>9000</mu1>
    <mu2>9000</mu2>
    <kp>1000000.0</kp>
    <kd>10.0</kd>
    <minDepth>0.001</minDepth>
    <maxContacts>1</maxContacts>
    
  </gazebo>



<gazebo reference="MP_ARM_HIGH_R">
    
    
    <material>Gazebo/Grey</material>

    <mu1>9000</mu1>
    <mu2>9000</mu2>
    <kp>1000000.0</kp>
    <kd>10.0</kd>
    <minDepth>0.001</minDepth>
    <maxContacts>1</maxContacts>
    
  </gazebo>



<gazebo reference="MP_ARM_LOW_R">
    
    
    <material>Gazebo/Grey</material>

    <mu1>9000</mu1>
    <mu2>9000</mu2>
    <kp>1000000.0</kp>
    <kd>10.0</kd>
    <minDepth>0.001</minDepth>
    <maxContacts>1</maxContacts>
    
  </gazebo>





<gazebo reference="MP_PELVIS_L">
    
    
    <material>Gazebo/Grey</material>

    <mu1>9000</mu1>
    <mu2>9000</mu2>
    <kp>1000000.0</kp>
    <kd>10.0</kd>
    <minDepth>0.001</minDepth>
    <maxContacts>1</maxContacts>
    
  </gazebo>



<gazebo reference="MP_THIGH1_L">
    
    
    <material>Gazebo/Grey</material>

    <mu1>9000</mu1>
    <mu2>9000</mu2>
    <kp>1000000.0</kp>
    <kd>10.0</kd>
    <minDepth>0.001</minDepth>
    <maxContacts>1</maxContacts>
    
  </gazebo>



<gazebo reference="MP_THIGH2_L">
    
    
    <material>Gazebo/Grey</material>

    <mu1>9000</mu1>
    <mu2>9000</mu2>
    <kp>1000000.0</kp>
    <kd>10.0</kd>
    <minDepth>0.001</minDepth>
    <maxContacts>1</maxContacts>
    
  </gazebo>



<gazebo reference="MP_TIBIA_L">
    
    
    <material>Gazebo/Grey</material>

    <mu1>9000</mu1>
    <mu2>9000</mu2>
    <kp>1000000.0</kp>
    <kd>10.0</kd>
    <minDepth>0.001</minDepth>
    <maxContacts>1</maxContacts>
    
  </gazebo>



<gazebo reference="MP_ANKLE1_L">
    
    
    <material>Gazebo/Grey</material>

    <mu1>9000</mu1>
    <mu2>9000</mu2>
    <kp>1000000.0</kp>
    <kd>10.0</kd>
    <minDepth>0.001</minDepth>
    <maxContacts>1</maxContacts>
    
  </gazebo>



<gazebo reference="MP_ANKLE2_L">
    
    
    <material>Gazebo/Grey</material>    

    <mu1>9000</mu1>
    <mu2>9000</mu2>
    <kp>1000000.0</kp>
    <kd>10.0</kd>
    <minDepth>0.001</minDepth>
    <maxContacts>1</maxContacts>    
  </gazebo>



<gazebo reference="MP_PELVIS_R">
    
    
    <material>Gazebo/Grey</material>

    <mu1>9000</mu1>
    <mu2>9000</mu2>
    <kp>1000000.0</kp>
    <kd>10.0</kd>
    <minDepth>0.001</minDepth>
    <maxContacts>1</maxContacts>
    
  </gazebo>



<gazebo reference="MP_THIGH1_R">
    
    
    <material>Gazebo/Grey</material>

    <mu1>9000</mu1>
    <mu2>9000</mu2>
    <kp>1000000.0</kp>
    <kd>10.0</kd>
    <minDepth>0.001</minDepth>
    <maxContacts>1</maxContacts>
    
  </gazebo>



<gazebo reference="MP_THIGH2_R">
    
    
    <material>Gazebo/Grey</material>


    <mu1>9000</mu1>
    <mu2>9000</mu2>
    <kp>1000000.0</kp>
    <kd>10.0</kd>
    <minDepth>0.001</minDepth>
    <maxContacts>1</maxContacts>

  </gazebo>



<gazebo reference="MP_TIBIA_R">
    
    
    <material>Gazebo/Grey</material>

    <mu1>9000</mu1>
    <mu2>9000</mu2>
    <kp>1000000.0</kp>
    <kd>10.0</kd>
    <minDepth>0.001</minDepth>
    <maxContacts>1</maxContacts>

  </gazebo>



<gazebo reference="MP_ANKLE1_R">
    
    
    <material>Gazebo/Grey</material>



    <mu1>9000</mu1>
    <mu2>9000</mu2>
    <kp>1000000.0</kp>
    <kd>10.0</kd>
    <minDepth>0.001</minDepth>
    <maxContacts>1</maxContacts>

  </gazebo>



<gazebo reference="MP_ANKLE2_R">
    
    
    <material>Gazebo/Grey</material>
    

    <mu1>9000</mu1>
    <mu2>9000</mu2>
    <kp>1000000.0</kp>
    <kd>10.0</kd>
    <minDepth>0.001</minDepth>
    <maxContacts>1</maxContacts>    
  </gazebo>



<gazebo reference="MP_PMDCAMBOARD">
    
    
    <material>Gazebo/Grey</material>
    
  </gazebo>



<gazebo reference="">
    
    
    <material>Gazebo/Grey</material>
    
  </gazebo>

  <gazebo>
    <plugin filename="libgazebo_ros_control.so" name="gazebo_ros_control">
      <robotNamespace>minibot</robotNamespace>
    </plugin>
  </gazebo>

  <gazebo reference="MP_PMDCAMBOARD">
        <sensor name='camera' type='camera'>
          <pose>-0.050000 -0.010000 0.000000 -1.5708 0.000000 -3.141592</pose>
          <camera name='__default__'>
            <horizontal_fov>1.012300</horizontal_fov>
            <image>
              <width>800</width>
              <height>600</height>
            </image>
            <clip>
              <near>0.001000</near>
              <far>100.000000</far>
            </clip>
          </camera>
          <always_on>1</always_on>
          <update_rate>30.000000</update_rate>
          <visualize>1</visualize>
          <plugin name="camera_controller" filename="libgazebo_ros_camera.so">
            <alwaysOn>true</alwaysOn>
            <updateRate>30</updateRate>
            <cameraName>minibot/camera</cameraName>
            <imageTopicName>image_raw</imageTopicName>
            <cameraInfoTopicName>camera_info</cameraInfoTopicName>
            <frameName>camera_link</frameName>
            <hackBaseline>0.07</hackBaseline>
            <distortionK1>0.0</distortionK1>
            <distortionK2>0.0</distortionK2>
            <distortionK3>0.0</distortionK3>
            <distortionT1>0.0</distortionT1>
            <distortionT2>0.0</distortionT2>
          </plugin>        
      </sensor>
  </gazebo>


      <gazebo>
        <plugin filename="libhector_gazebo_ros_imu.so" name="gazebo_ros_imu">
          <bodyName>MP_IMU</bodyName>
          <updateRate>50</updateRate>
          <serviceName>/minibot/imu_service</serviceName>
          <topicName>/imu</topicName>
          <gaussianNoise>0</gaussianNoise>
          <xyzOffset>0 0 0</xyzOffset>
          <rpyOffset>0 0 -0.703220730592</rpyOffset>
        </plugin>     
      </gazebo>  

</robot>
